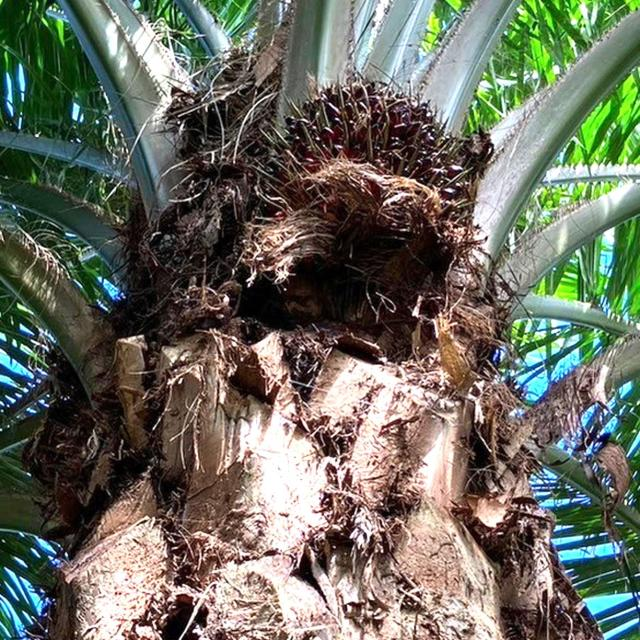ripe: (242, 61, 495, 285)
